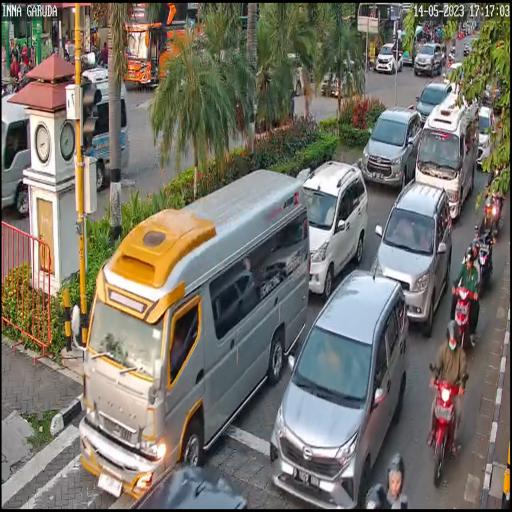mobil: (77, 170, 310, 499), (268, 268, 408, 507), (370, 177, 454, 335), (300, 155, 368, 294), (414, 98, 474, 219), (366, 104, 418, 186)
motor: (428, 358, 468, 490), (447, 276, 480, 364), (475, 218, 499, 293)
